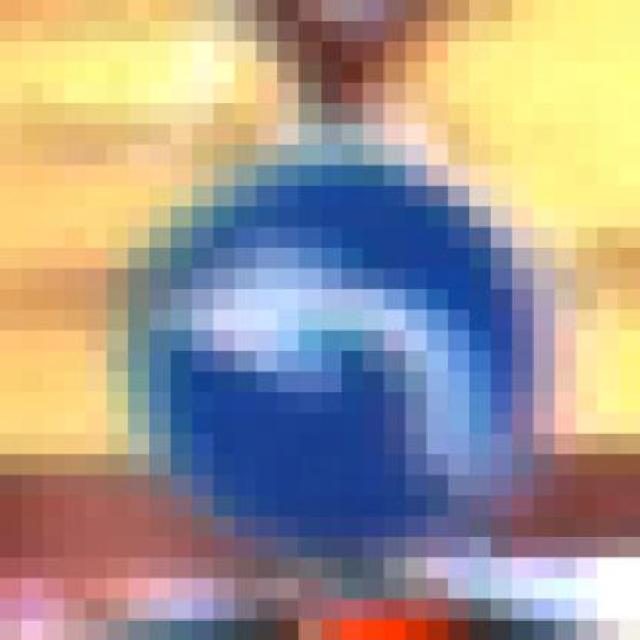Turn left ahead: (86, 144, 554, 578)
